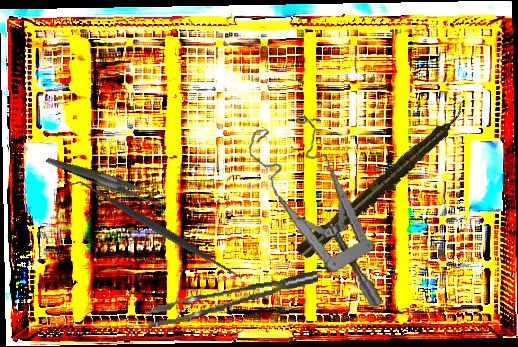Dressing Forceps: (45, 124, 167, 235)
Handpiece: (292, 102, 474, 264)
Spatula Surgical: (68, 168, 249, 290)
Speculum: (246, 108, 383, 321)
Tissue Forceps: (142, 270, 322, 329)
